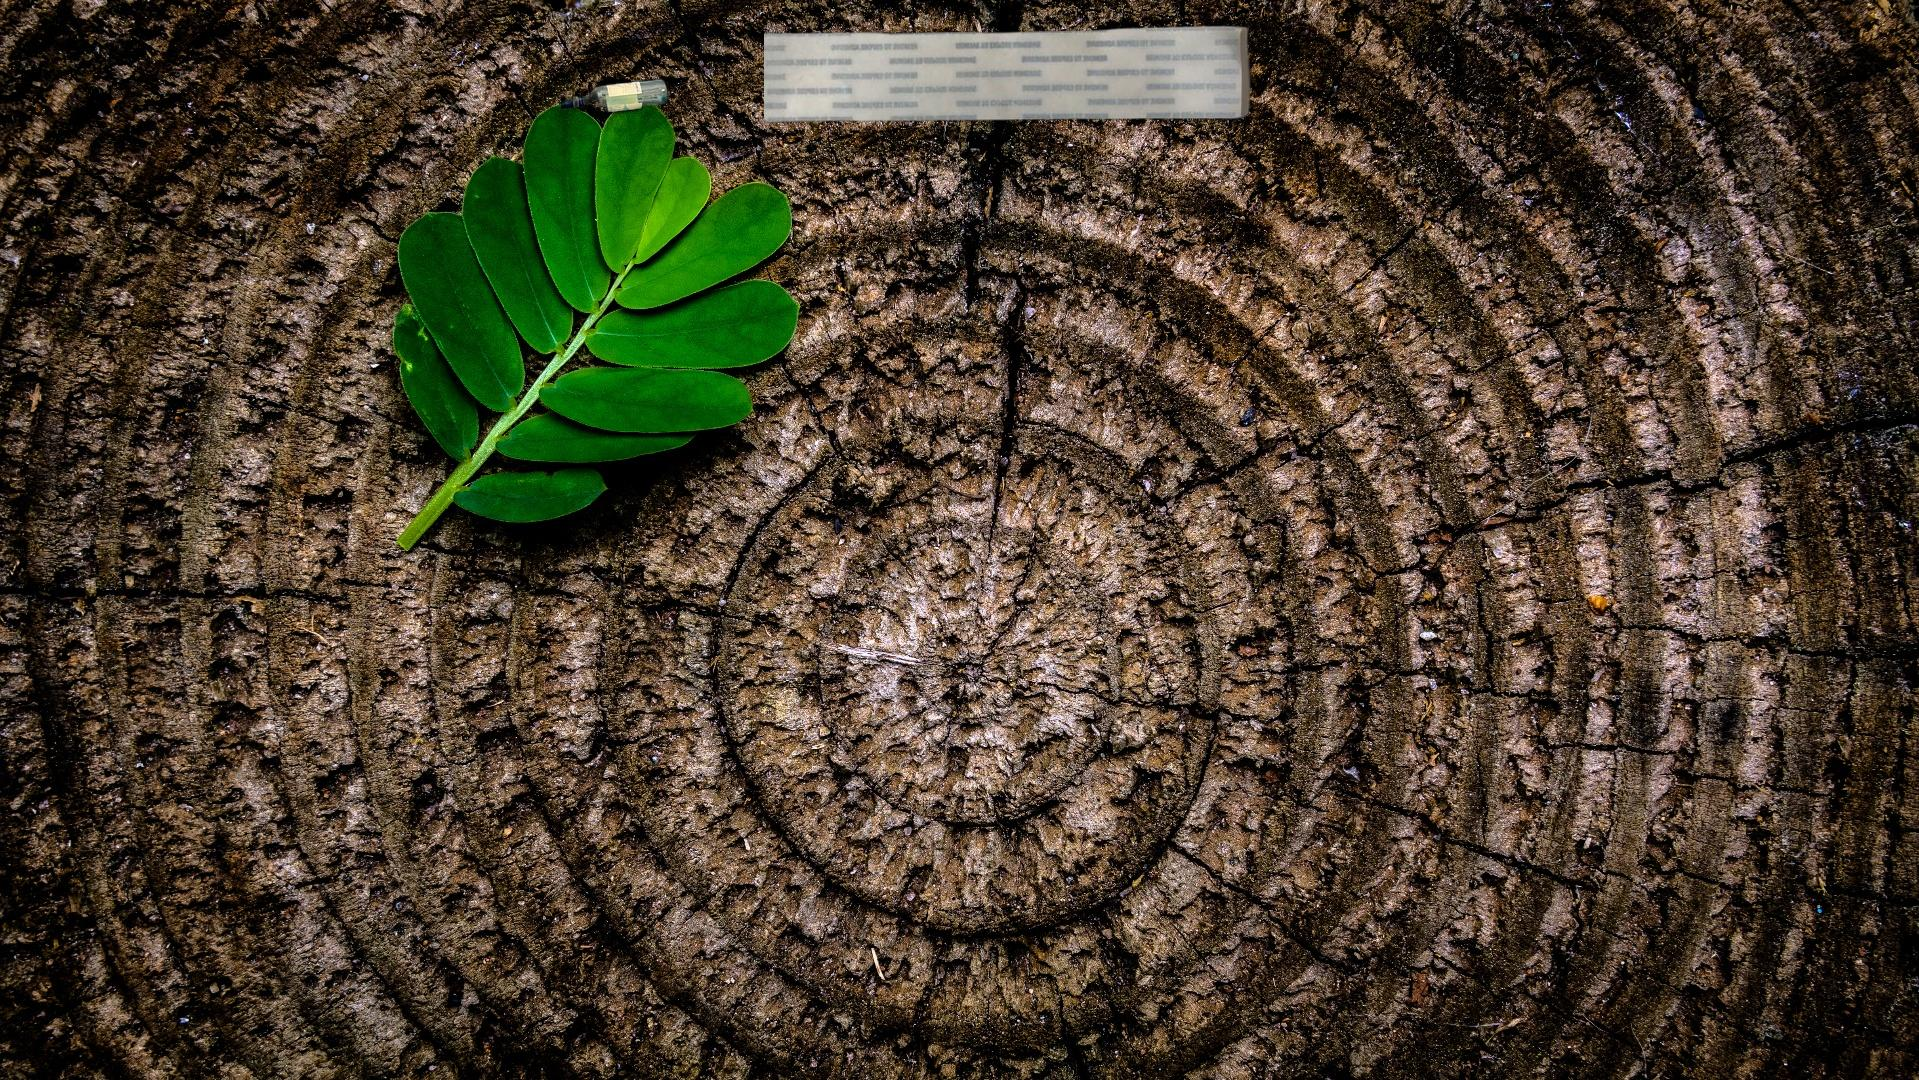glass: (558, 73, 672, 119)
metal-cans: (1709, 943, 1919, 1080)
paper: (764, 22, 1253, 127)
